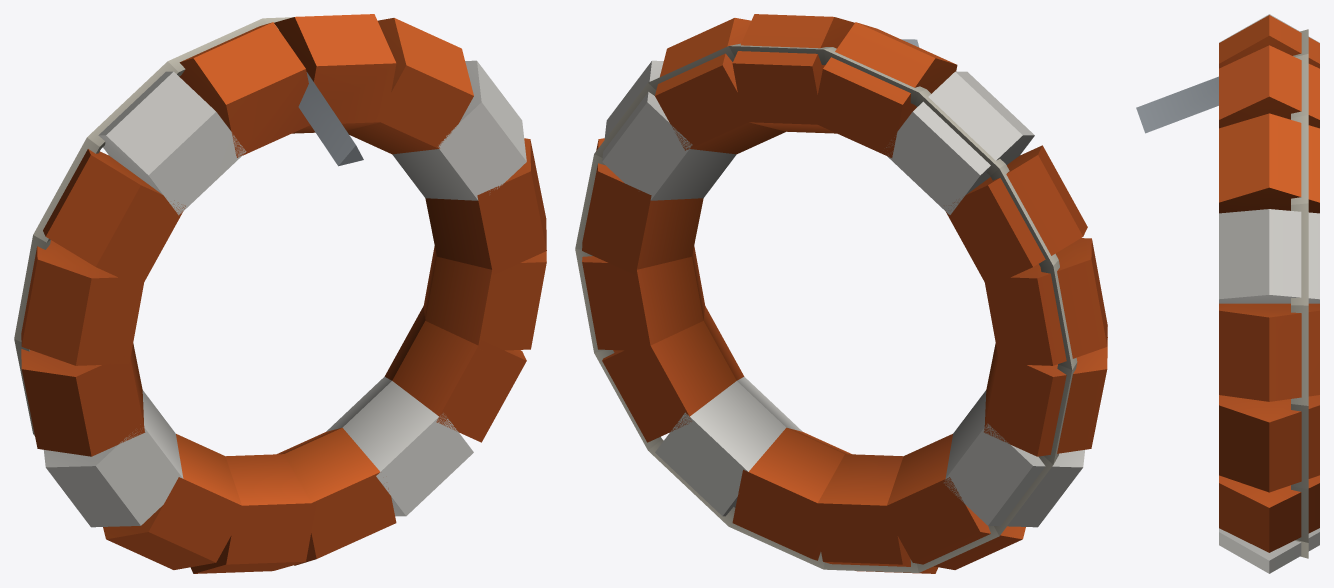
Rendered from gd_motorboat_buoy.glb.
The picture shows the model from 3 angles, left to right: view 1: azimuth 30°, elevation 25°; view 2: azimuth 150°, elevation 25°; view 3: azimuth 270°, elevation 25°; orthographic projection. The views are drawn at different scales.
Parts seen in each view (by area): view 1: base; view 2: base; view 3: base.
Boxes of the visible parts, box(x1,y1,x2,y2) form: base: box(14, 14, 546, 573); base: box(575, 14, 1107, 573); base: box(1136, 14, 1319, 573).
Size of the model in its own units: 0.1056 by 0.1056 by 0.0347.
